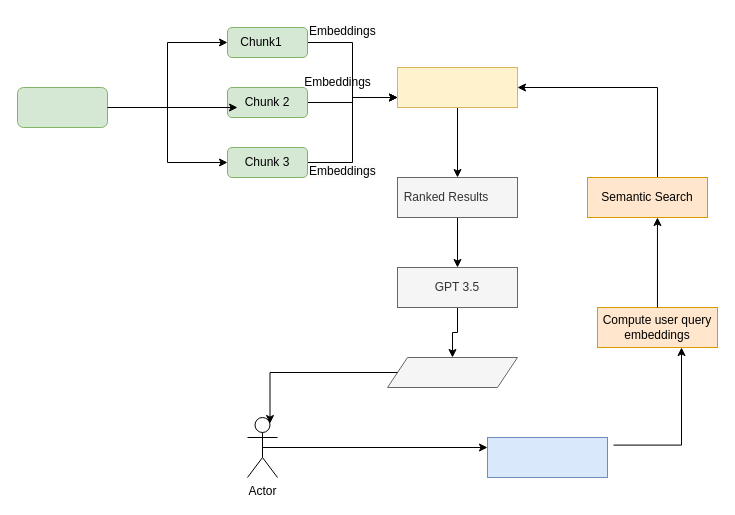
Image size: 735x515. Some labels were removed from this diagram. Here are the shapes that lost their labels. From the top down, the centre of each, then its label:
(x=62, y=107): Data
(x=457, y=87): Pinecone Vector Db
(x=452, y=372): Generated Answer
(x=547, y=457): User Query
